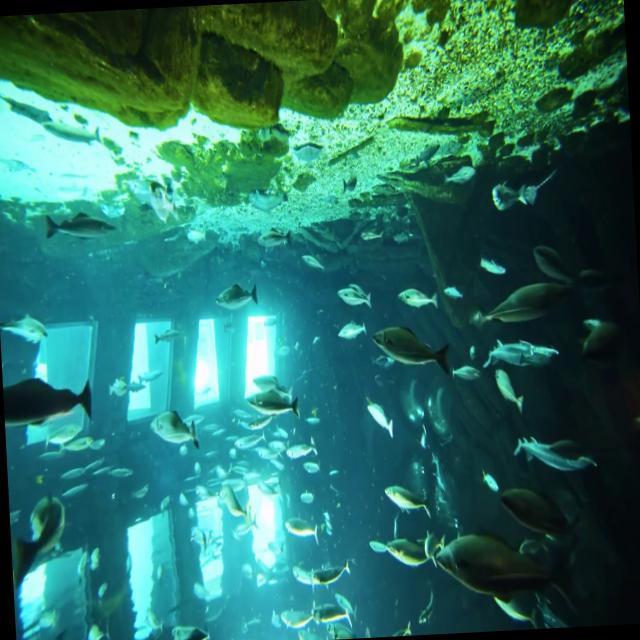fish: (432, 507, 586, 628), (466, 278, 570, 350), (366, 311, 457, 393), (501, 424, 604, 486), (9, 498, 72, 594), (504, 486, 588, 557), (484, 156, 562, 229), (2, 374, 98, 429), (485, 330, 575, 384), (38, 198, 118, 258), (243, 376, 318, 434), (140, 395, 200, 458), (489, 360, 537, 430), (381, 523, 431, 582), (210, 271, 261, 321), (210, 470, 255, 526), (276, 506, 328, 550), (388, 278, 439, 320), (358, 398, 402, 446), (308, 554, 353, 600), (314, 593, 358, 636), (334, 274, 374, 318), (275, 596, 318, 635), (330, 317, 376, 353), (162, 615, 211, 640), (276, 434, 324, 459), (286, 558, 314, 594), (475, 460, 501, 497)
